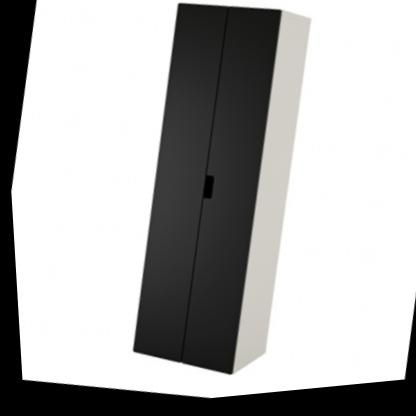Cabinet: (100, 0, 333, 396)
